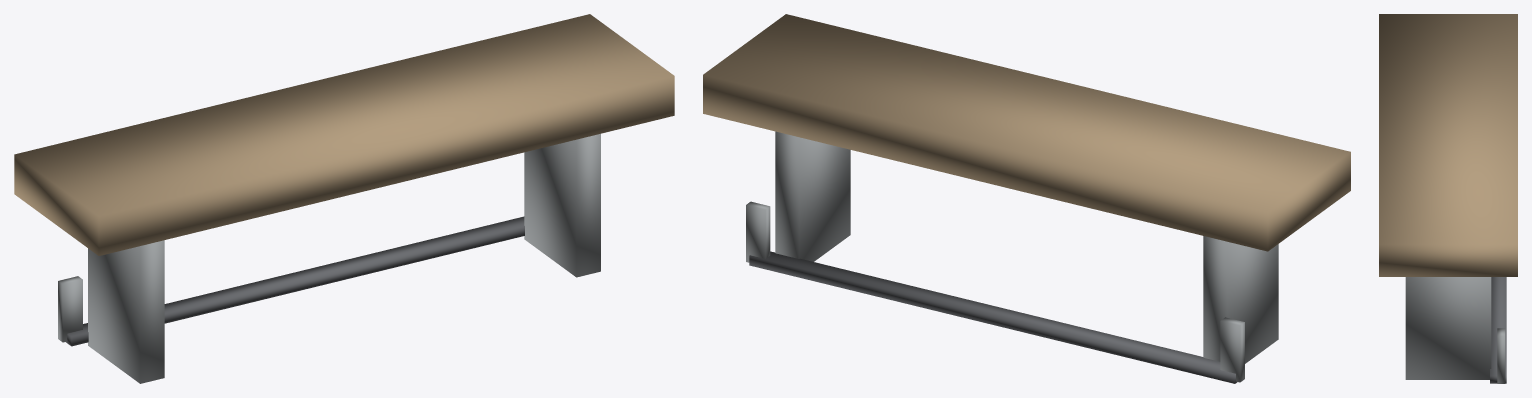
Rendered from gallery_bench__reinforced.glb.
3 renders of one model, left to right at view 1: azimuth 30°, elevation 25°; view 2: azimuth 150°, elevation 25°; view 3: azimuth 270°, elevation 25°, orthographic. The views are drawn at different scales.
Visible parts, largest first — view 1: world; view 2: world; view 3: world.
Boxes of the visible parts, x1,y1,x2,y2 form: world: [14, 14, 674, 383]; world: [703, 14, 1350, 383]; world: [1379, 14, 1517, 383].
Bounding box in the file's own units: 1.7 × 0.5457 × 0.4326.
